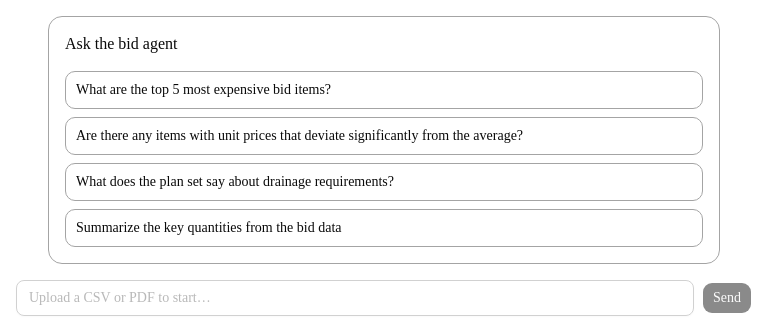
Test: Chat — empty-state to first-message integration › clicking a suggested question while upload is not ready pre-fills the input instead of sending
Click the button "What are the top 5 most expensive bid items?" at (204, 90), box [65, 71, 703, 109]
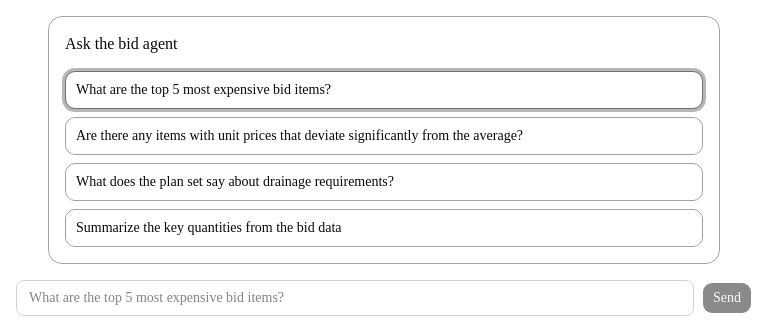
Expected: the field with test id "chat-input" holds "What are the top 5 most expensive bid items?", [16, 280, 694, 316]
